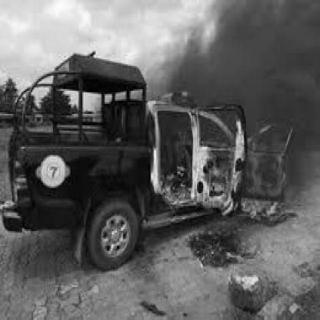Fire: (240, 182, 288, 222)
Smoke: (177, 0, 317, 127)
